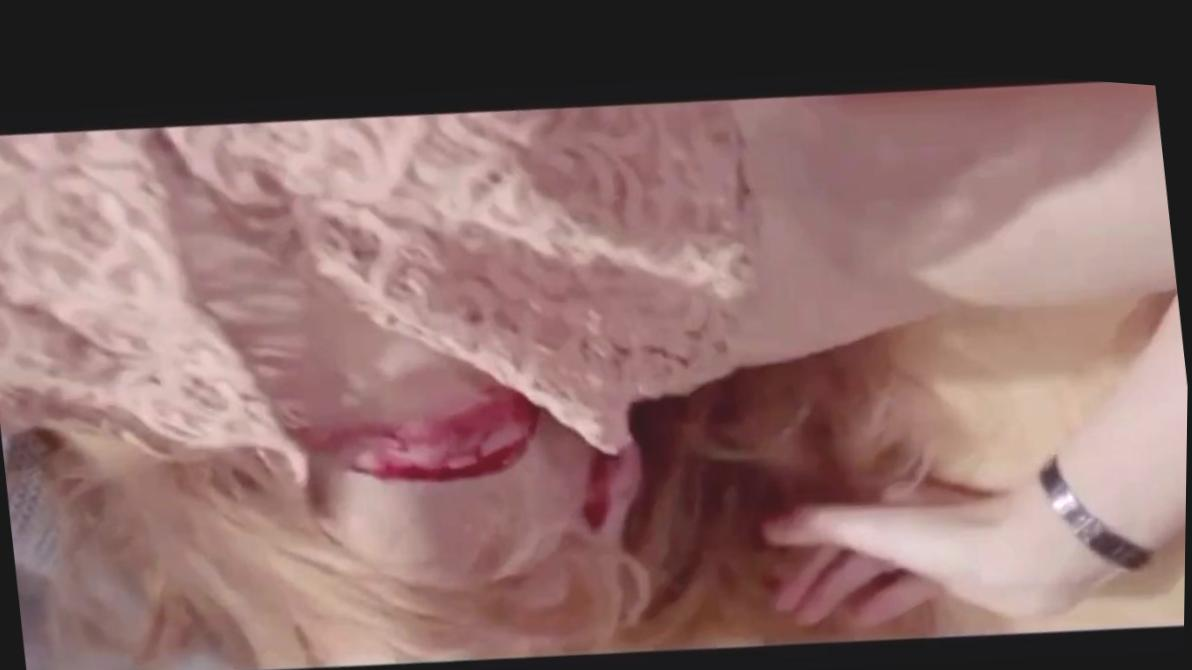Fire: (338, 379, 546, 477), (583, 435, 643, 526)
